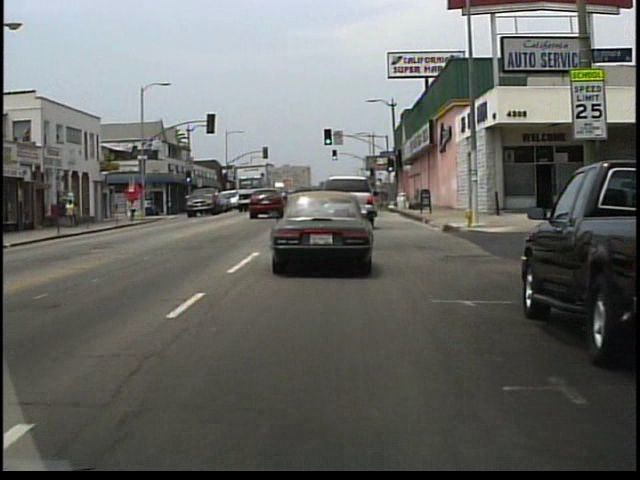person: (66, 197, 77, 227), (77, 201, 86, 227), (129, 198, 139, 220)
